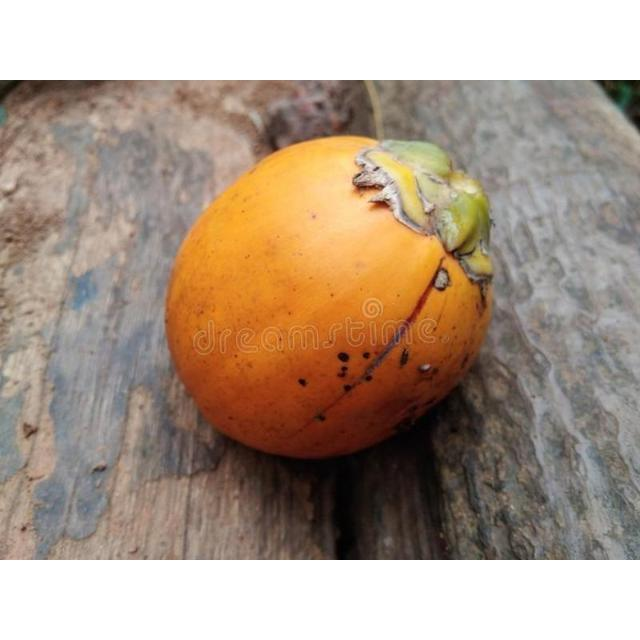good: (164, 135, 494, 462)
